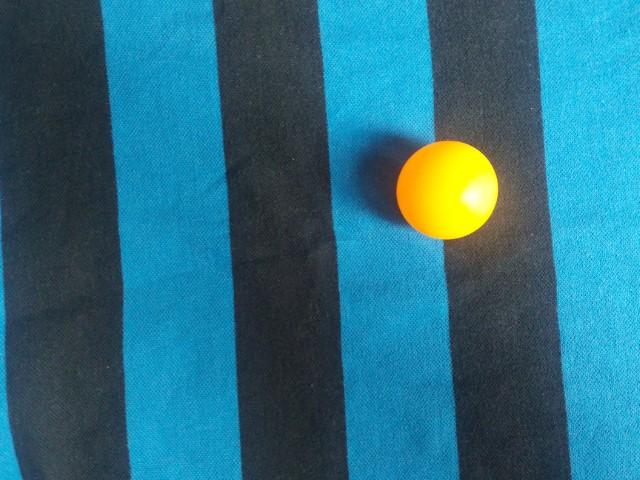oball: (135, 234, 249, 345)
